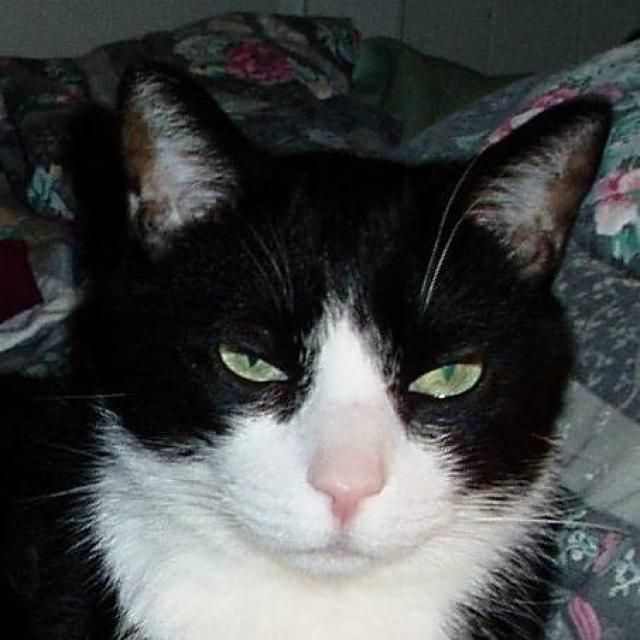Cat: (69, 45, 624, 592)
